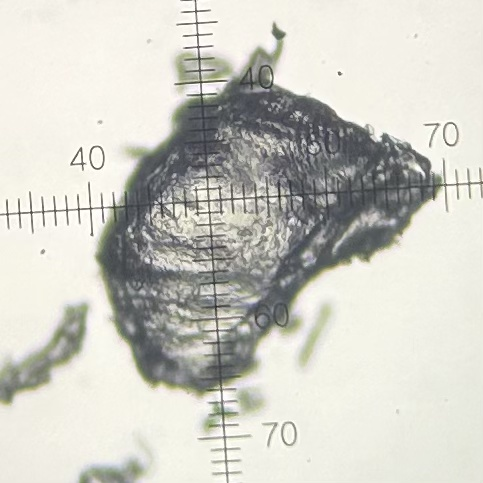microplastic: (92, 19, 444, 400), (1, 301, 91, 408), (77, 428, 156, 483), (169, 50, 237, 96), (301, 302, 332, 367), (240, 384, 269, 415), (212, 400, 237, 419), (201, 414, 220, 435)
